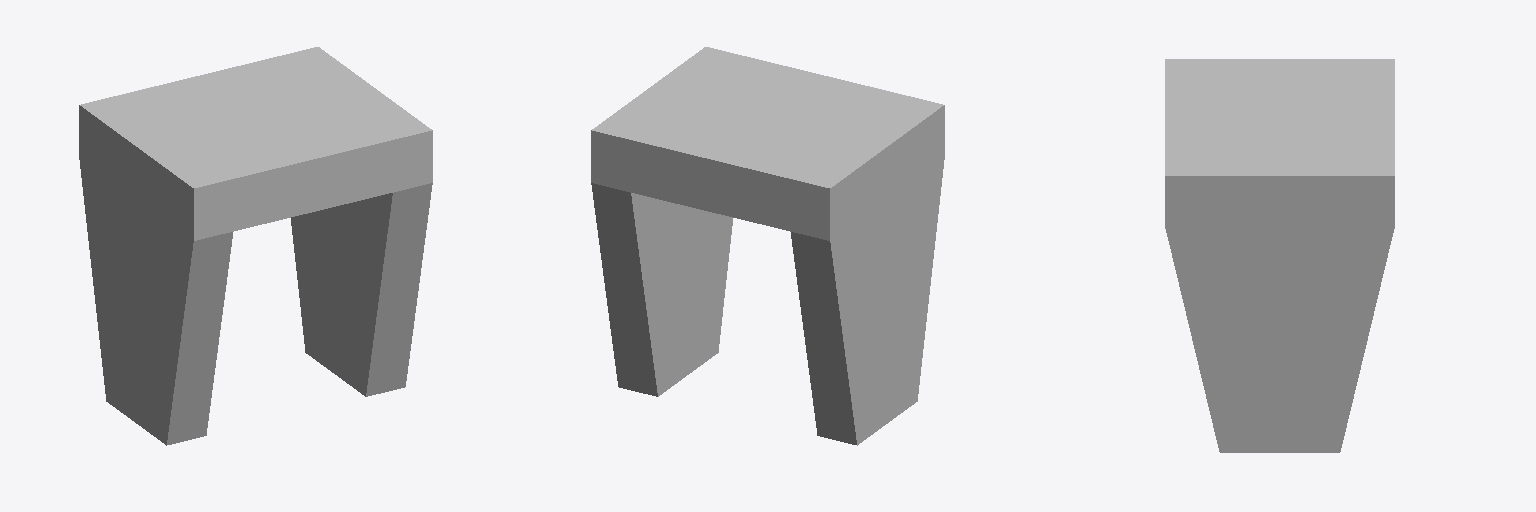
The model's file is turret.obj.
3 views of the same model, side by side, from view 1: azimuth 30°, elevation 25°; view 2: azimuth 150°, elevation 25°; view 3: azimuth 270°, elevation 25° (orthographic).
Parts seen in each view (by area): view 1: Cylinder01_sep2; view 2: Cylinder01_sep2; view 3: Cylinder01_sep2.
Part boxes in pixels (x1,y1,x2,y2): Cylinder01_sep2: (79,47,432,445); Cylinder01_sep2: (591,47,944,445); Cylinder01_sep2: (1165,59,1394,452).
Bounding box in the file's own units: 1.21 × 1.33 × 1.